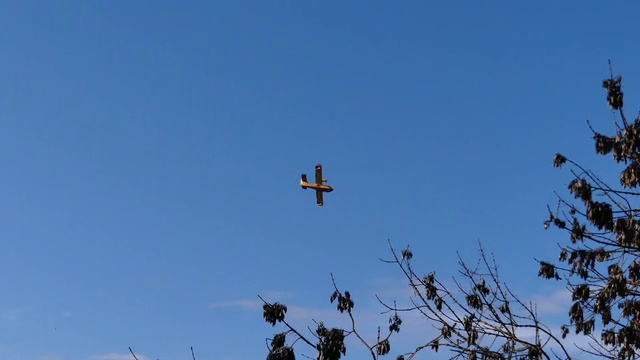plane: (298, 163, 334, 206)
